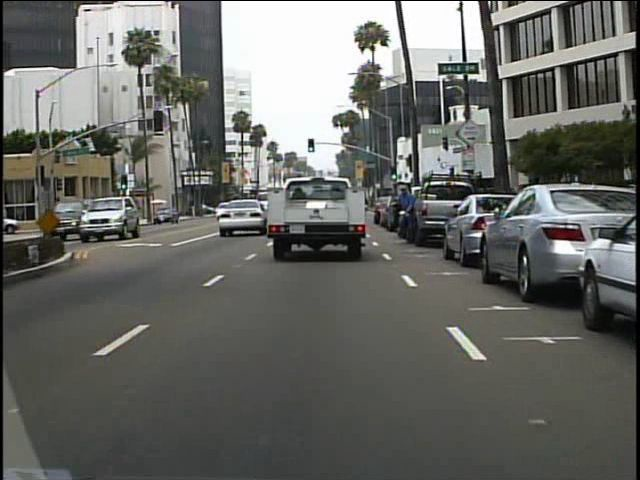person: (392, 183, 415, 243)
